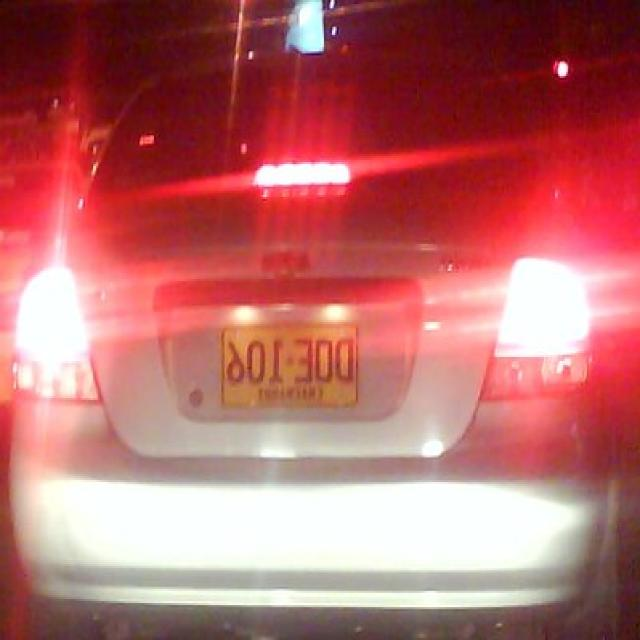placas: (222, 333, 357, 386)
